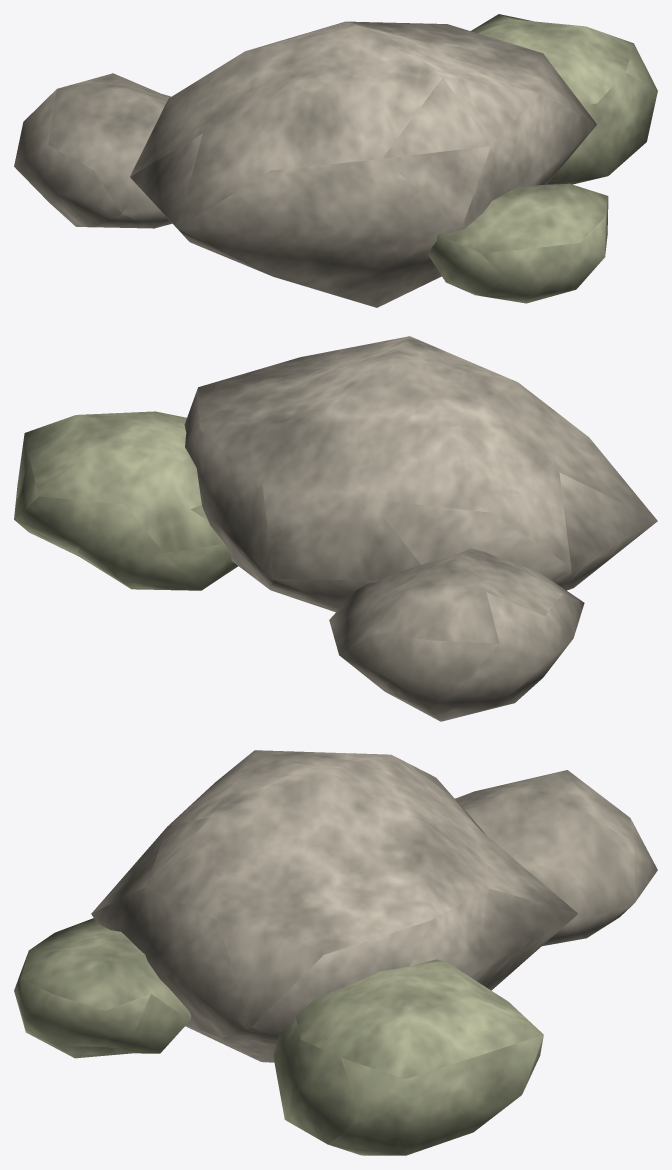
The model's file is rock_cluster.glb.
3 renders of one model, top to bottom at view 1: azimuth 30°, elevation 25°; view 2: azimuth 150°, elevation 25°; view 3: azimuth 270°, elevation 25°, orthographic. The views are drawn at different scales.
Visible parts, largest first — view 1: rock_cluster_geometry; view 2: rock_cluster_geometry; view 3: rock_cluster_geometry.
Boxes of the visible parts, x1,y1,x2,y2 form: rock_cluster_geometry: (14,14,657,307); rock_cluster_geometry: (14,336,657,721); rock_cluster_geometry: (14,750,657,1155).
Size of the model in its own units: 2.66 by 1.18 by 2.36.
Materials: 2 (2 with a texture image).
